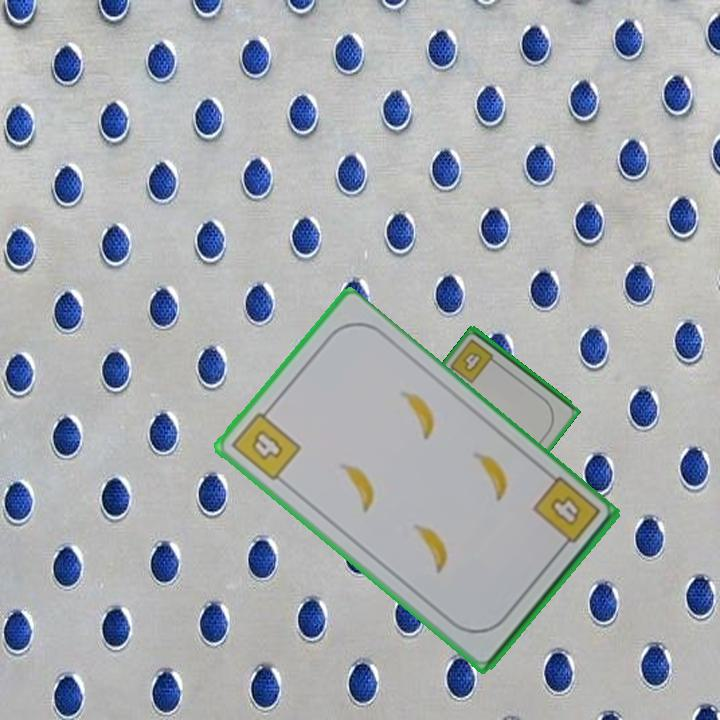4b: (227, 402, 304, 484), (528, 473, 603, 556), (446, 336, 502, 386)
